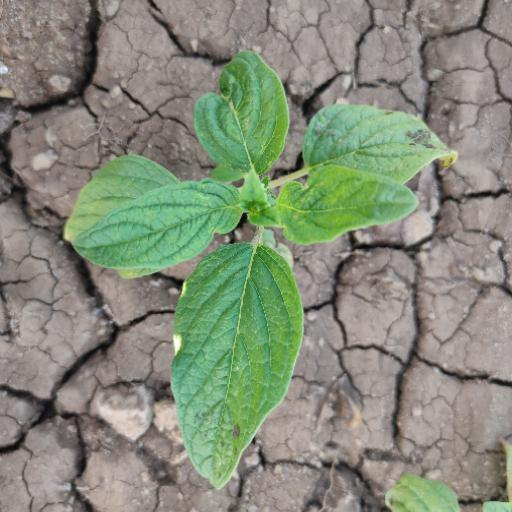crop: (69, 64, 462, 487)
